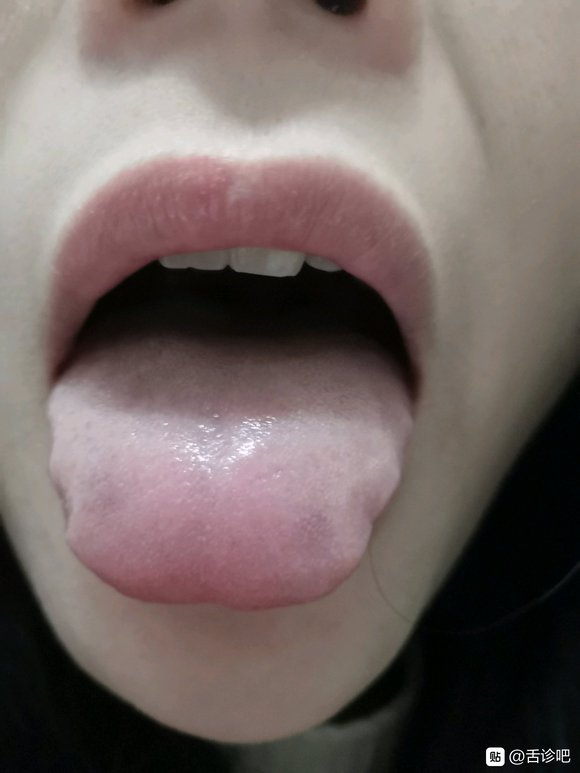baitaishe: (47, 317, 414, 610)
chihenshe: (349, 421, 414, 573), (47, 407, 71, 544)
pangdashe: (46, 317, 413, 610)
